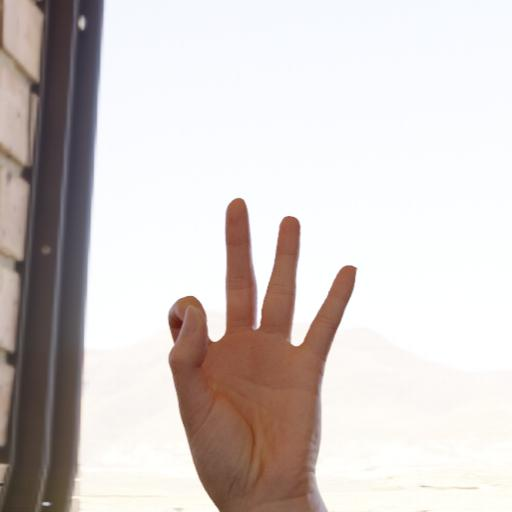F: (143, 175, 376, 495)
